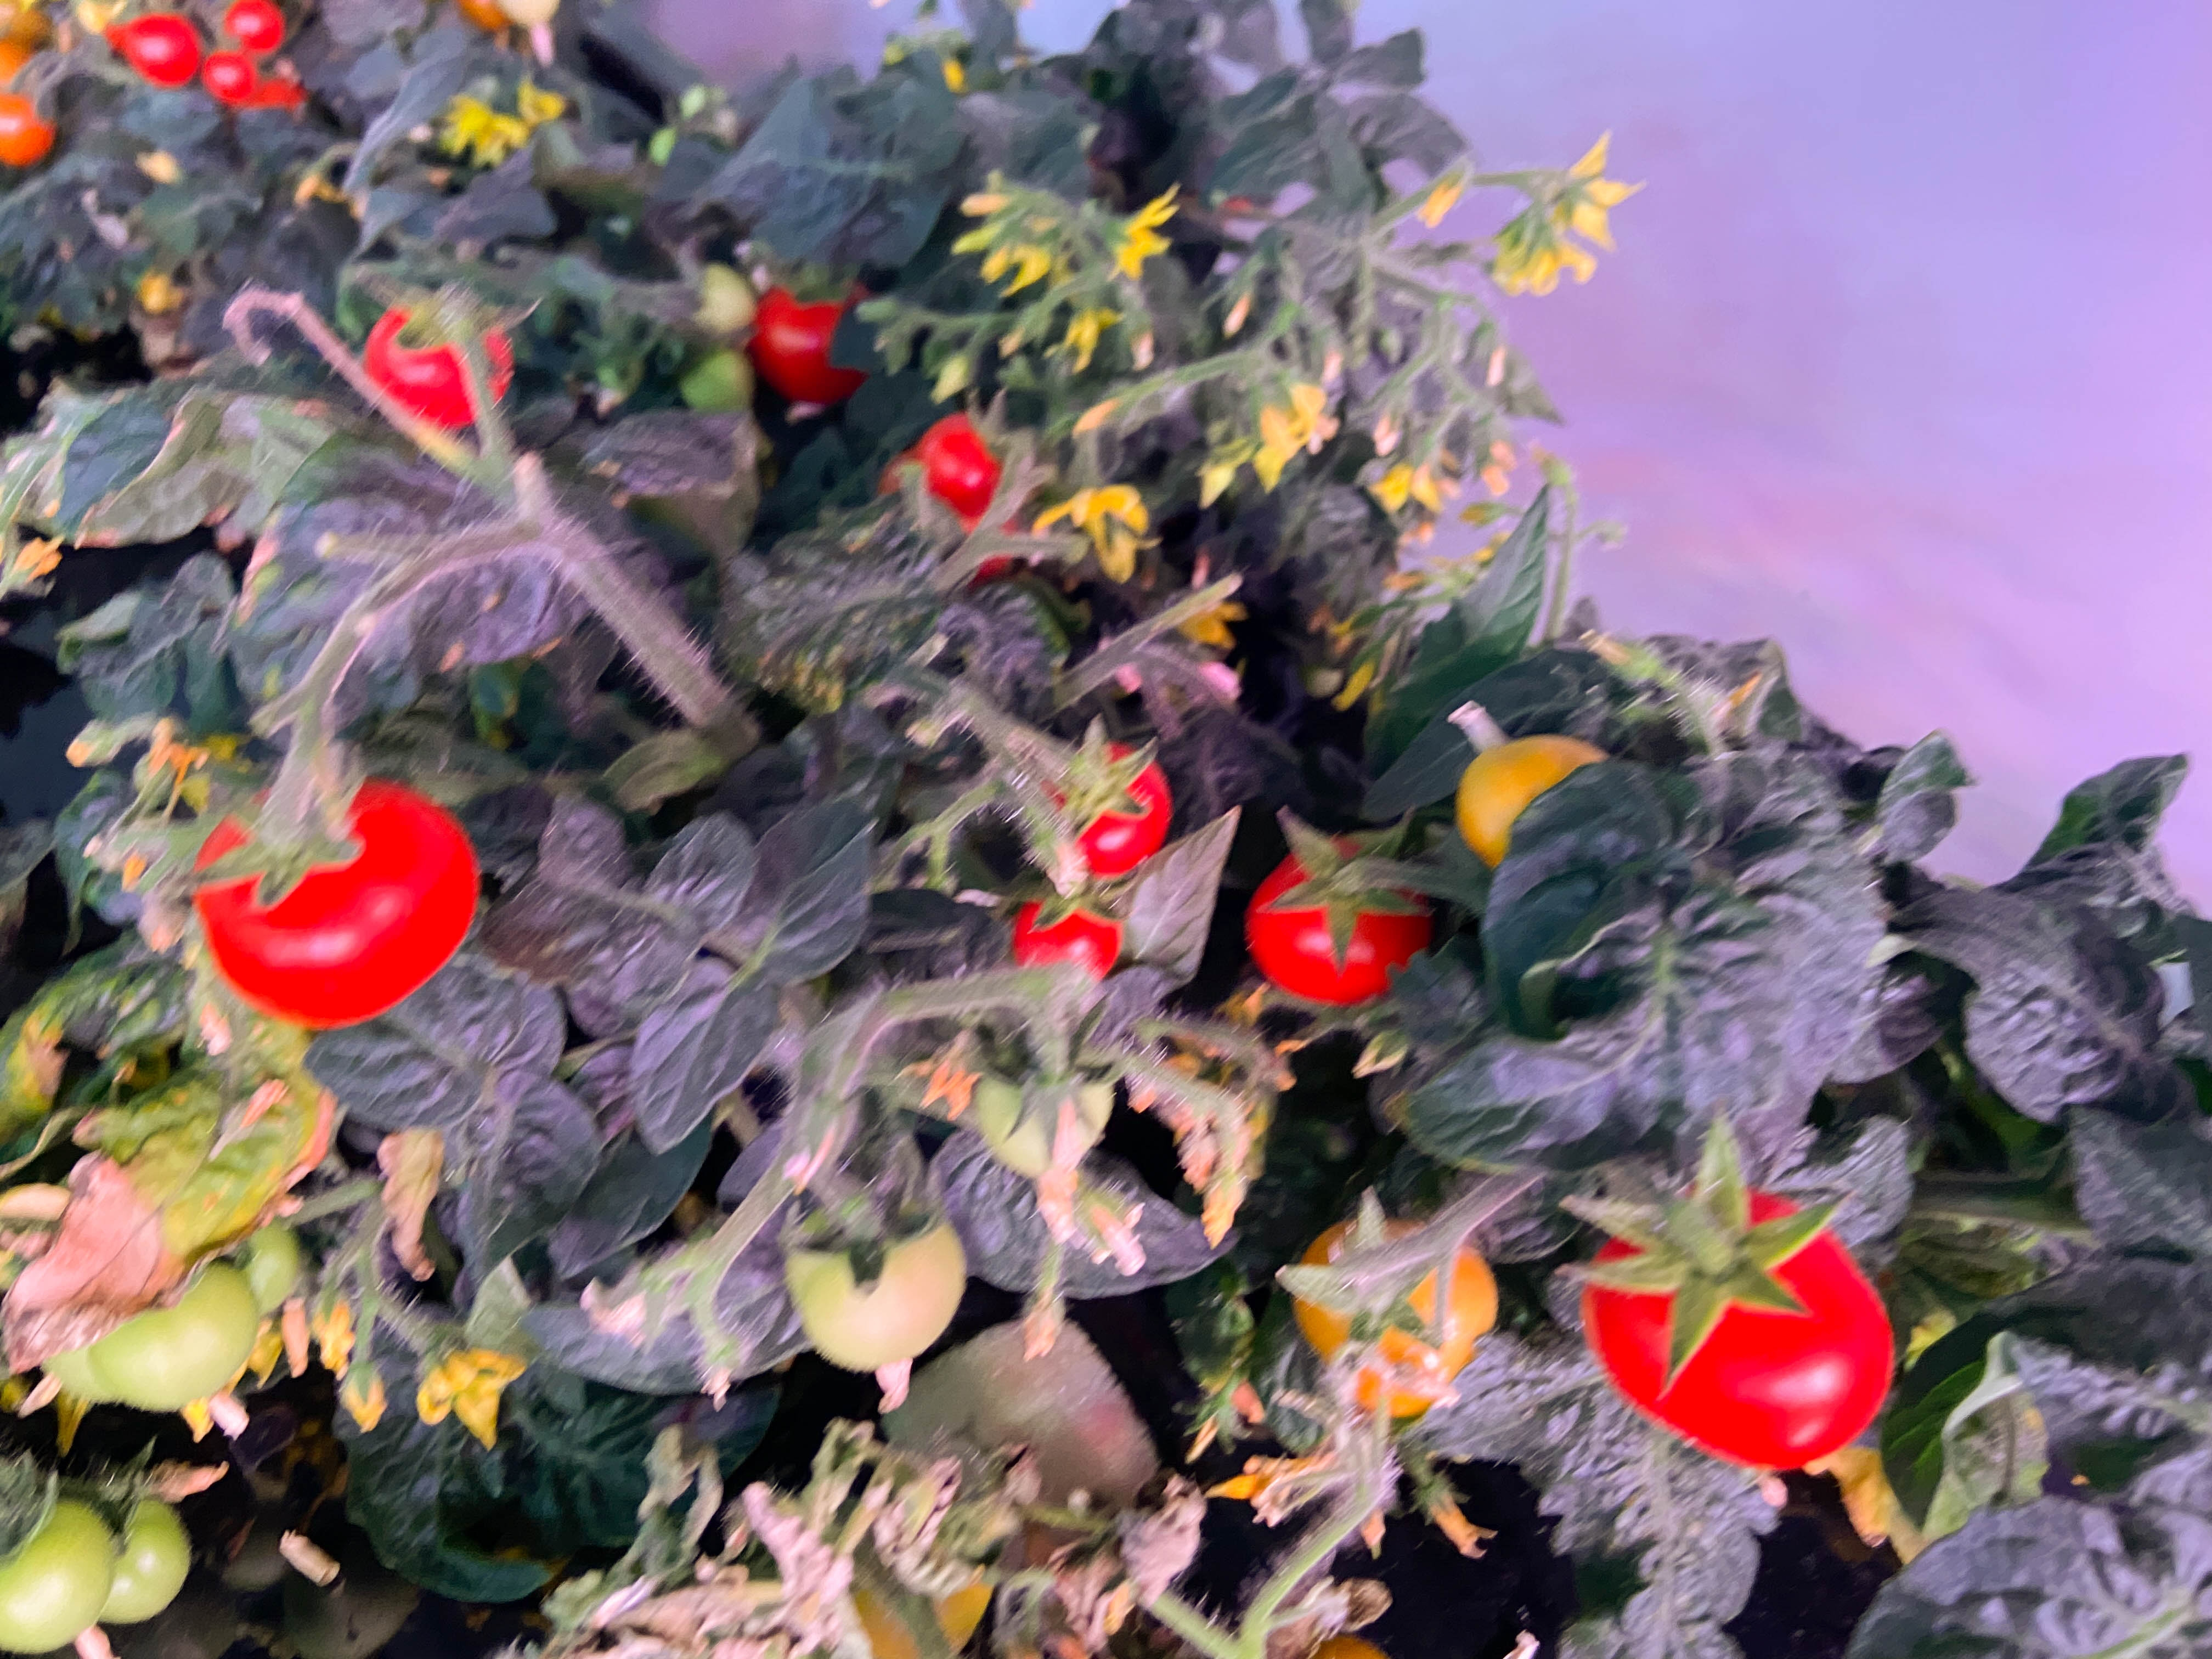green: (52, 1244, 263, 1410), (786, 1188, 967, 1371), (0, 1490, 111, 1650), (972, 1051, 1111, 1176), (82, 1488, 192, 1624), (221, 1209, 303, 1321), (686, 260, 758, 336), (681, 343, 752, 416)
red: (1588, 1188, 1895, 1476), (199, 775, 477, 1023), (1301, 1213, 1501, 1417), (1245, 835, 1428, 1004), (1454, 732, 1615, 856), (362, 296, 510, 429), (1055, 748, 1172, 877), (754, 282, 873, 401), (920, 422, 1033, 533), (1015, 897, 1127, 983), (118, 9, 200, 89), (204, 47, 282, 110), (444, 2, 535, 51), (214, 2, 287, 59), (0, 91, 54, 167)
